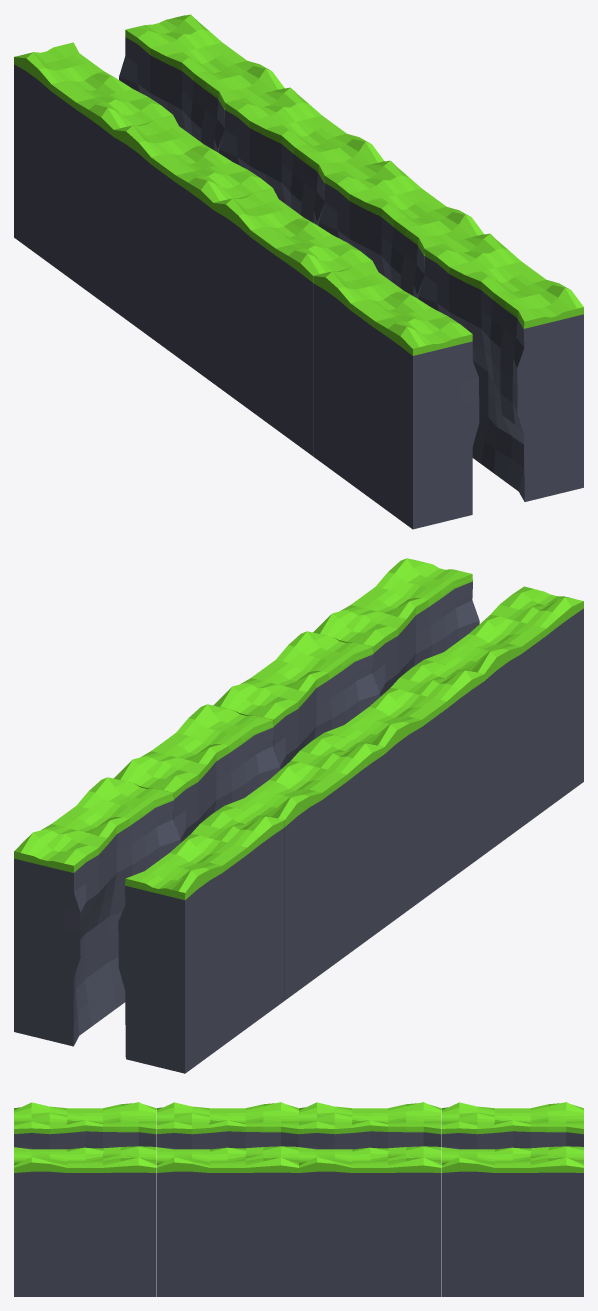
Rendered from BlockSet6.dae.
3 renders of one model, top to bottom at view 1: azimuth 30°, elevation 25°; view 2: azimuth 150°, elevation 25°; view 3: azimuth 270°, elevation 25°, orthographic. The views are drawn at different scales.
Parts seen in each view (by area): view 1: BlockSet6Fin; view 2: BlockSet6Fin; view 3: BlockSet6Fin.
Boxes of the visible parts, x1,y1,x2,y2 form: BlockSet6Fin: (14, 14, 583, 529); BlockSet6Fin: (14, 558, 583, 1073); BlockSet6Fin: (14, 1102, 583, 1296).
Bounding box in the file's own units: 154 × 166 × 622.
